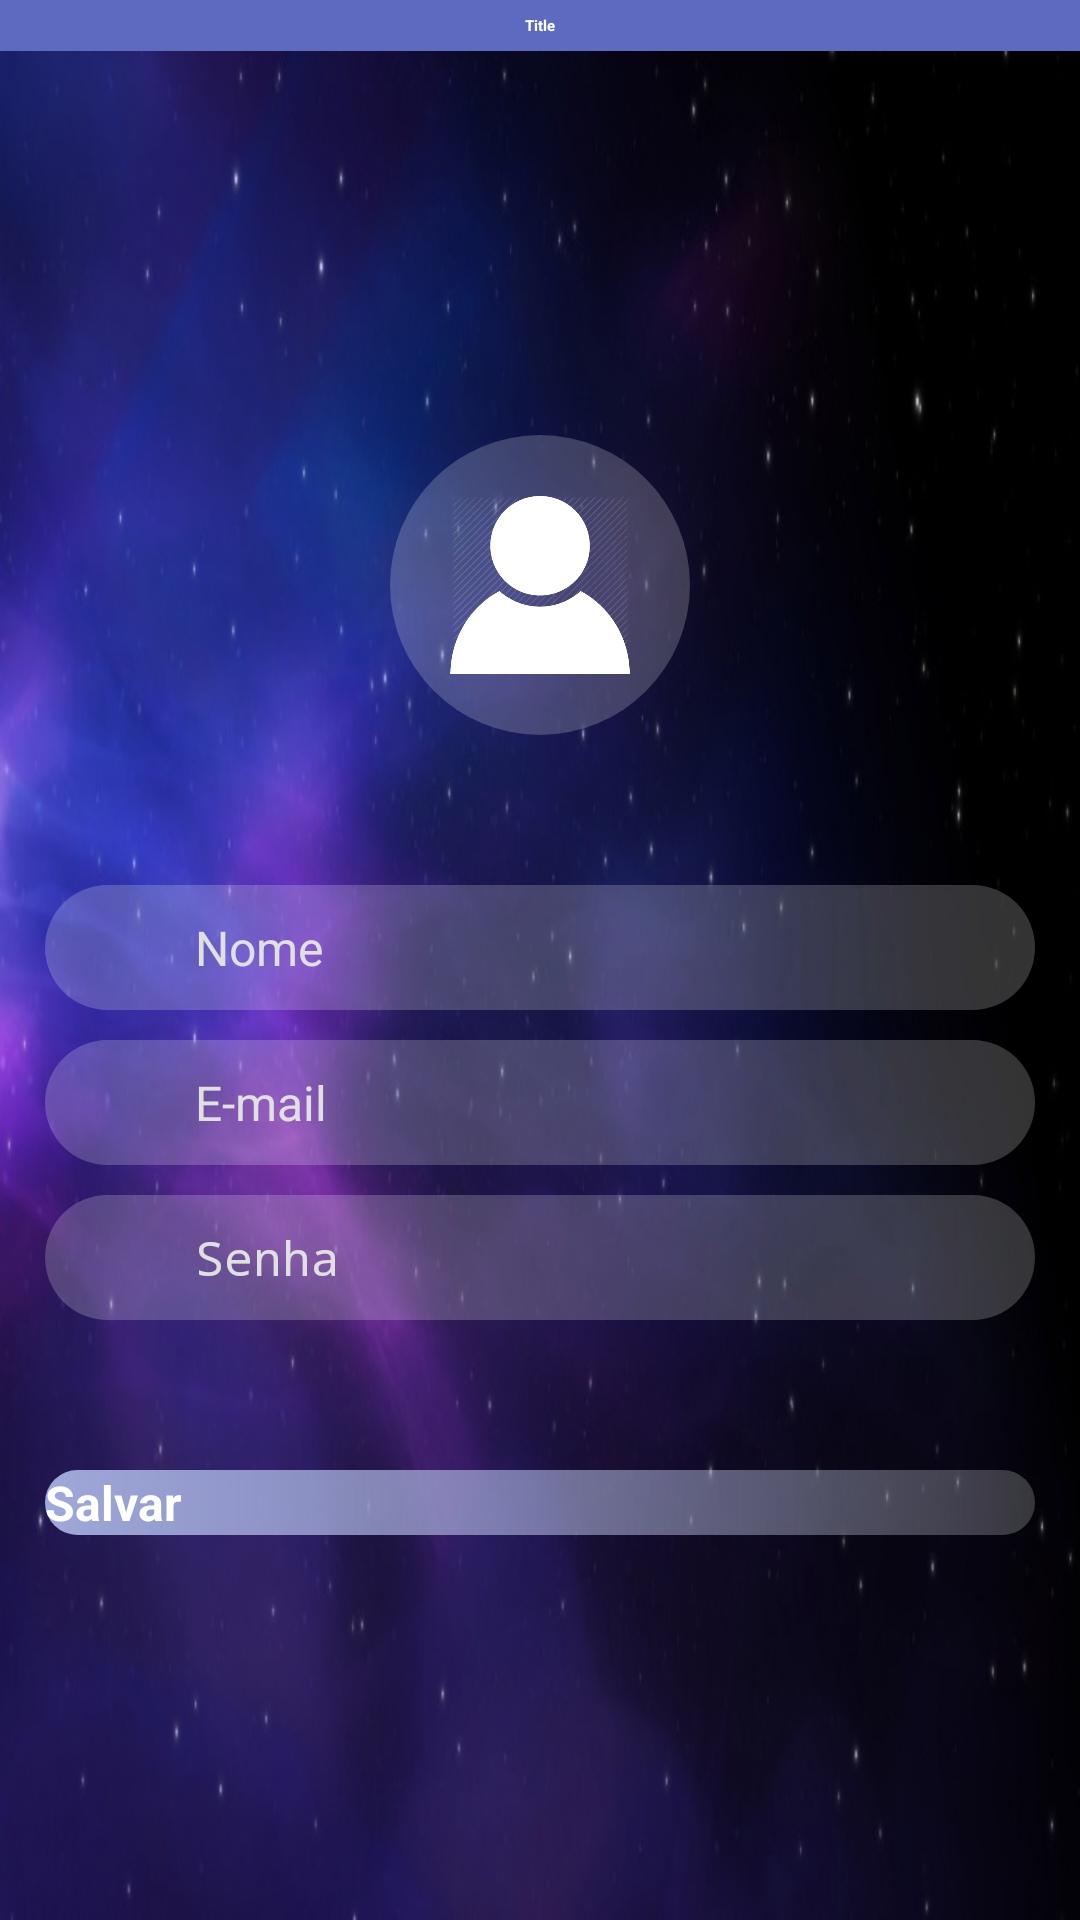

Point at icon controls on the screen. Image size 1080x1920, points as point (x, y).
user: point (540, 585)
